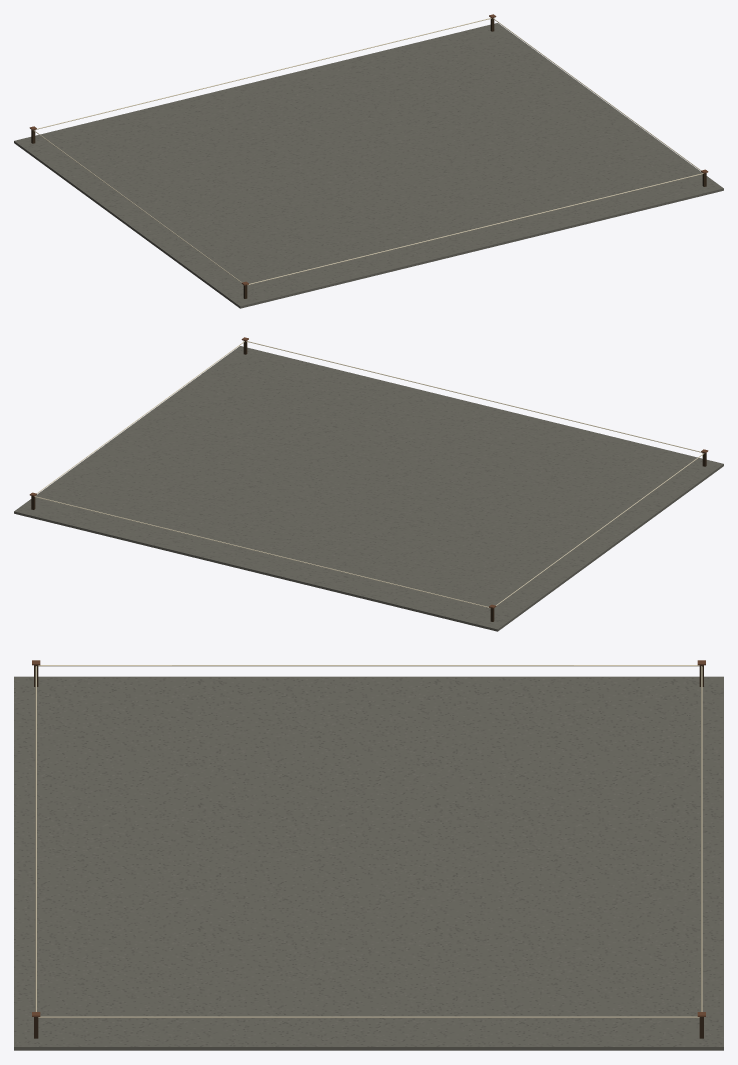
The model's file is fun-7-site.glb.
3 renders of one model, top to bottom at view 1: azimuth 30°, elevation 25°; view 2: azimuth 150°, elevation 25°; view 3: azimuth 270°, elevation 25°, orthographic. The views are drawn at different scales.
Size of the model in its own units: 31.6 by 1.09 by 25.6.
Materials: 4 (1 with a texture image).
